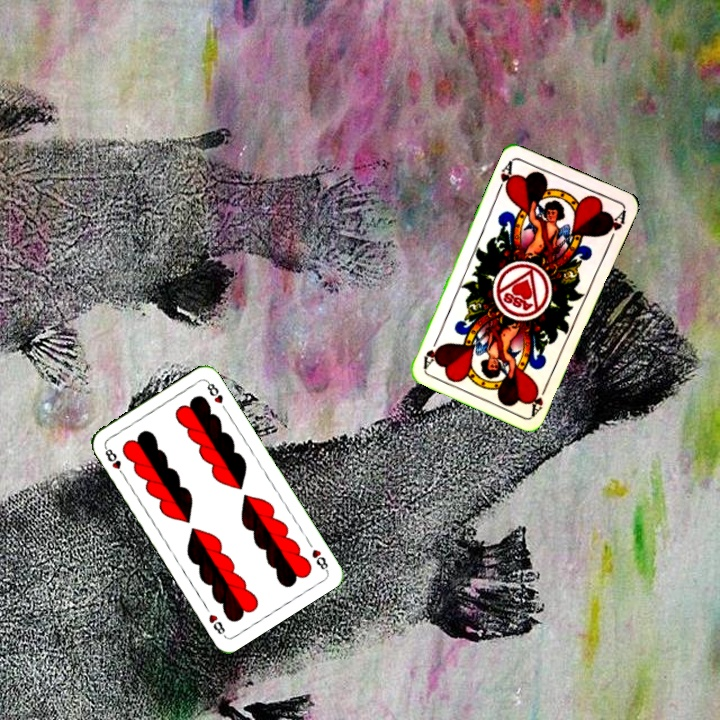H8: (100, 443, 128, 479), (308, 545, 331, 574)
HA: (526, 379, 551, 418), (493, 156, 517, 195)
